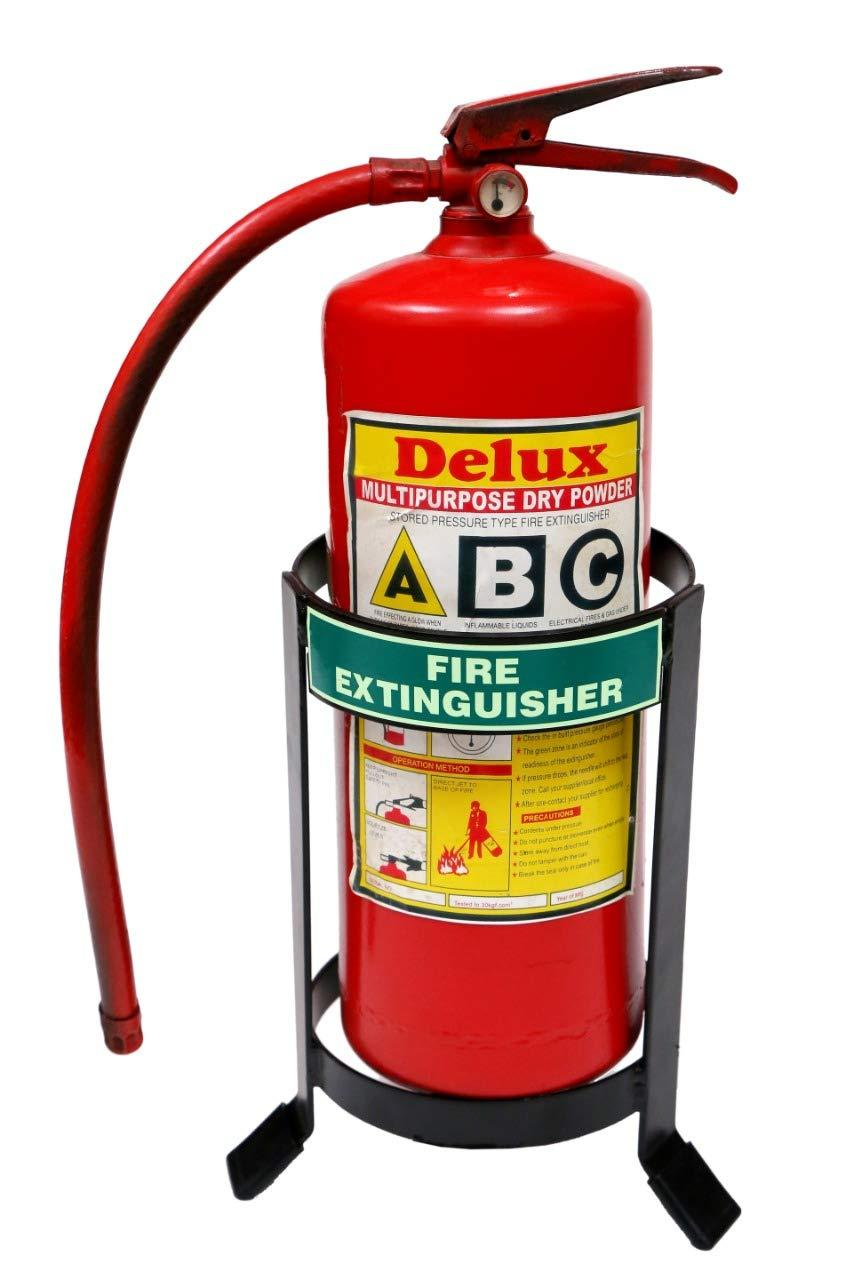floor-kept: (3, 45, 845, 1263)
